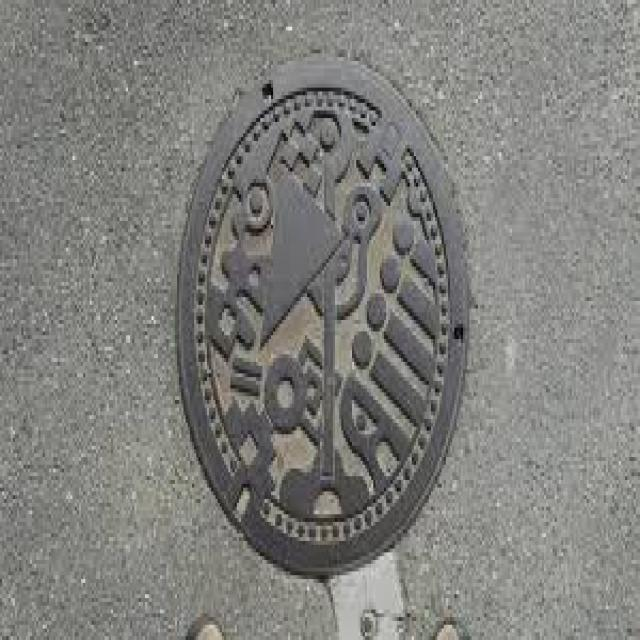manhole: (173, 58, 472, 582)
